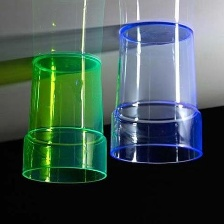glass: (104, 18, 212, 166), (16, 46, 115, 187)
